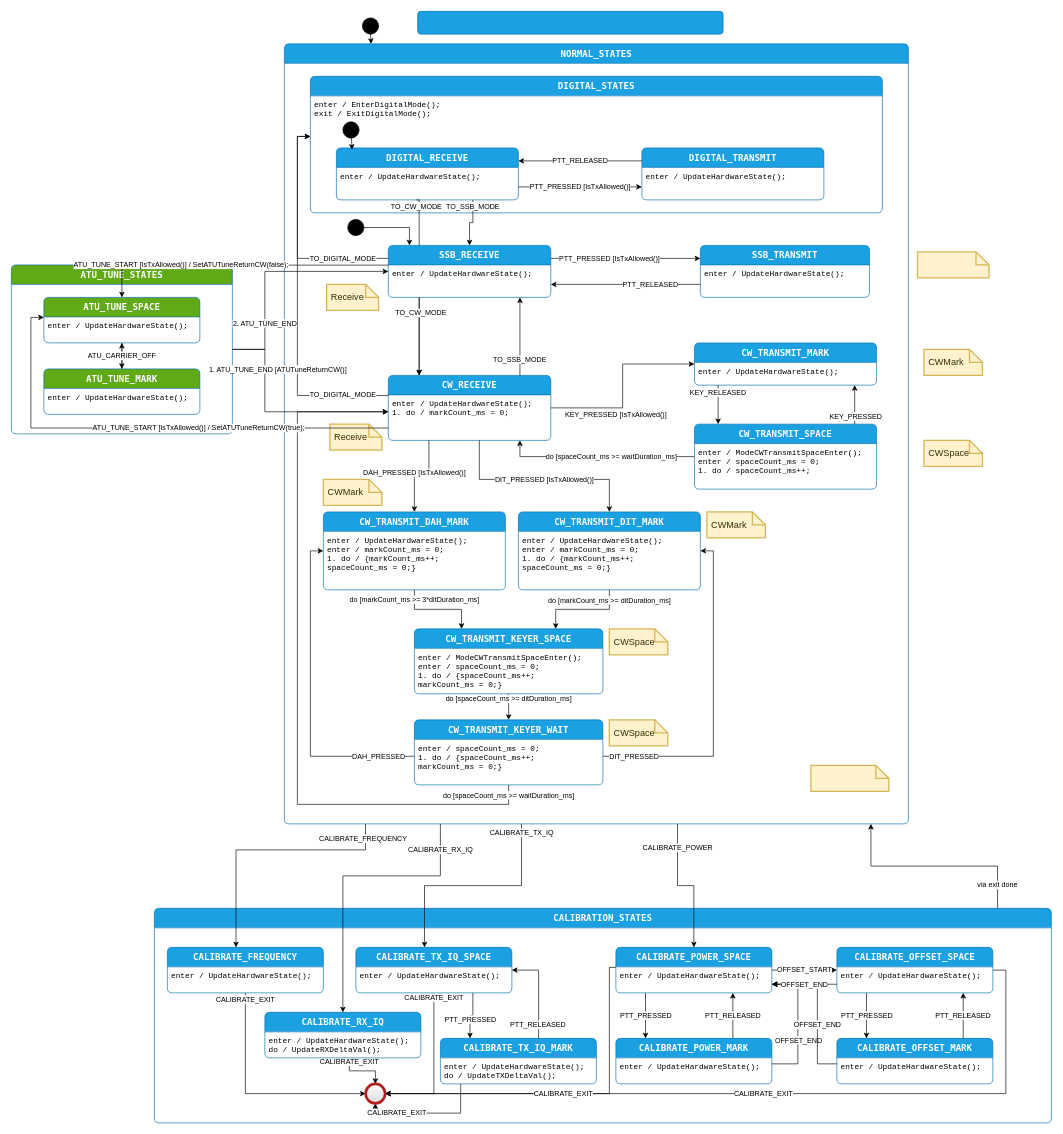
This 1063x1134 diagram has some shape labels left out. The shapes that lost their labels are listed below. From the top down, each one's centre as x and y in pixels, then its label:
At point (570, 22): "$STATEMACHINE : ModeSm".
At point (952, 264): "SSBTransmit".
At point (849, 778): "RF Board Hardware State".
At point (375, 1093): "exit : done".
